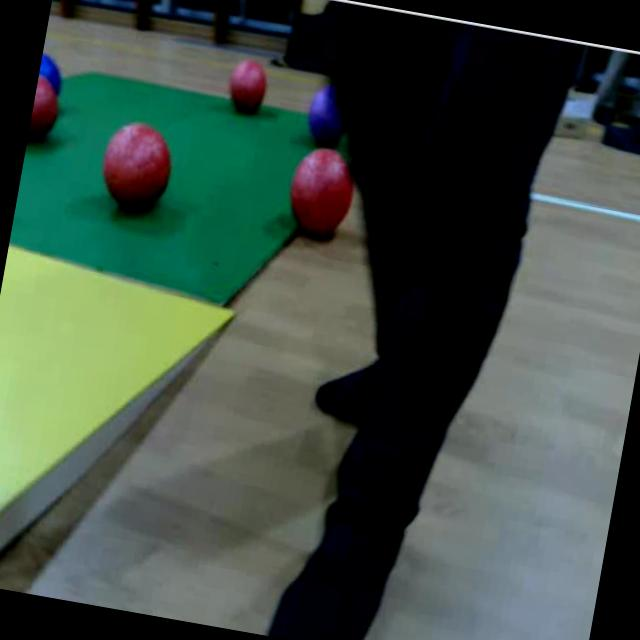blue_ball: (302, 80, 366, 150), (33, 47, 71, 110)
red_ball: (278, 135, 372, 255), (92, 109, 182, 226), (24, 70, 67, 160), (224, 51, 274, 122)
